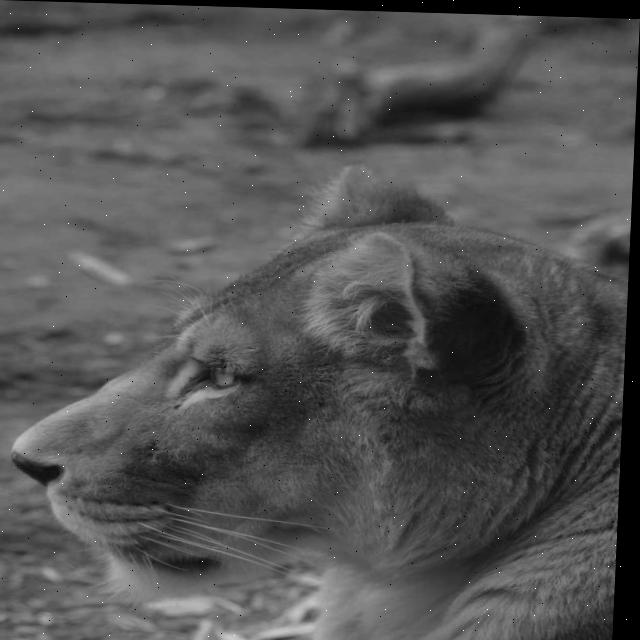Lion: (0, 155, 600, 640)
